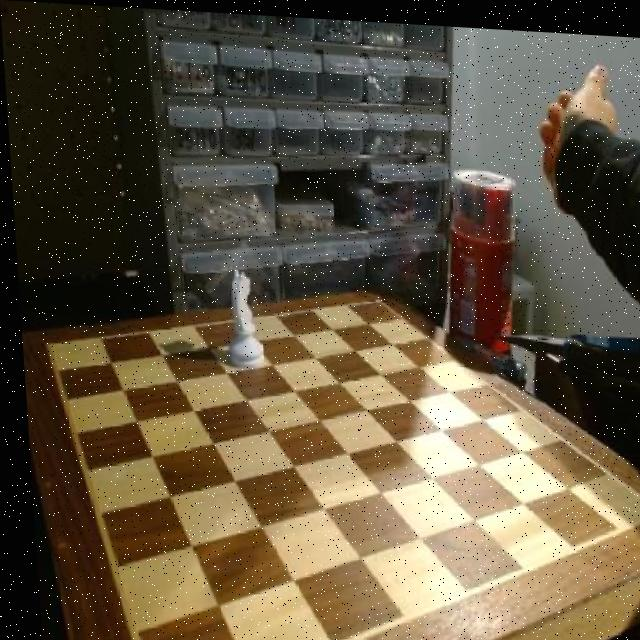white-king: (211, 260, 266, 371)
